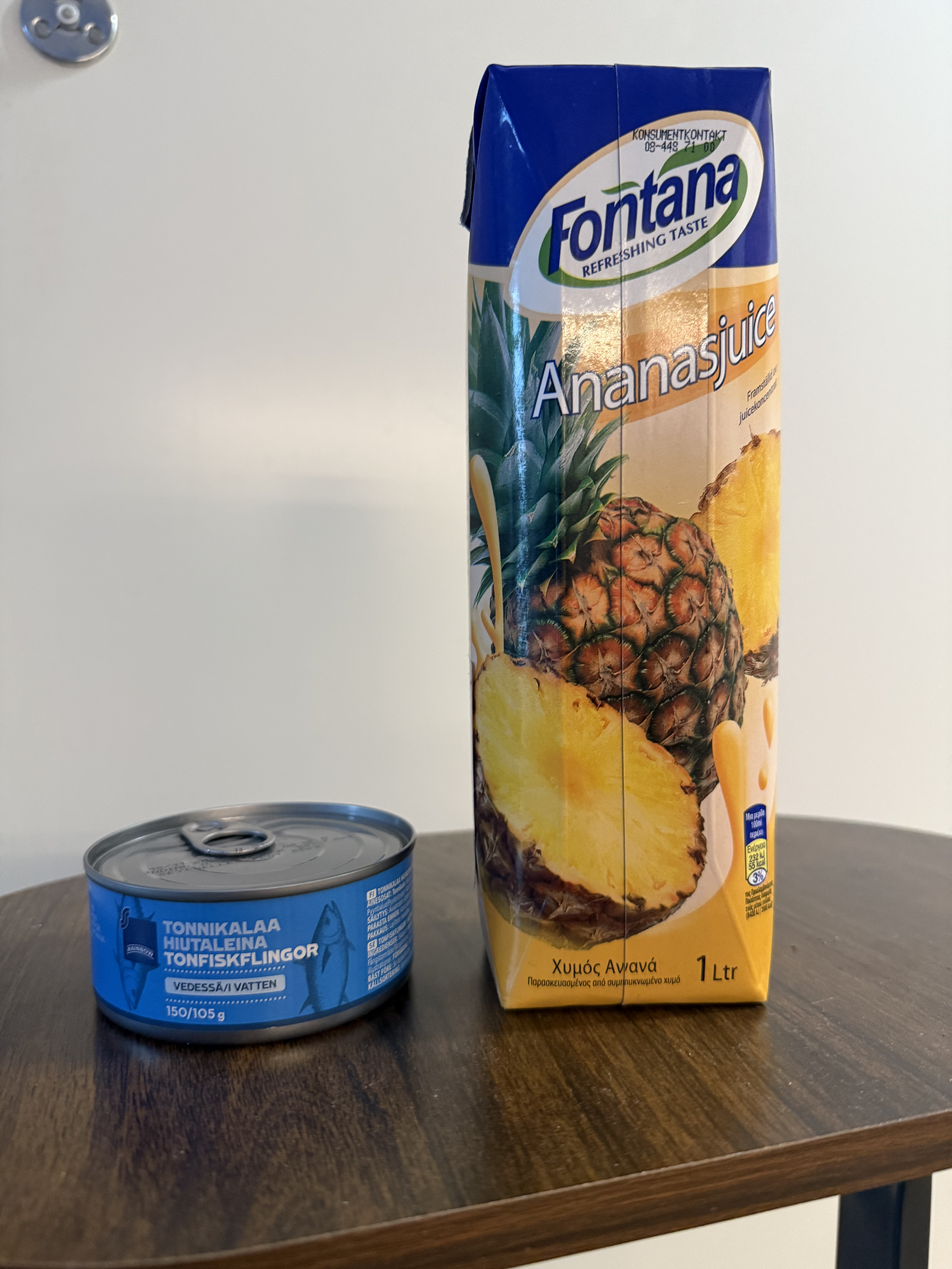Dryckeskartong: (459, 54, 760, 1017)
Konservburk: (81, 819, 427, 1037)
